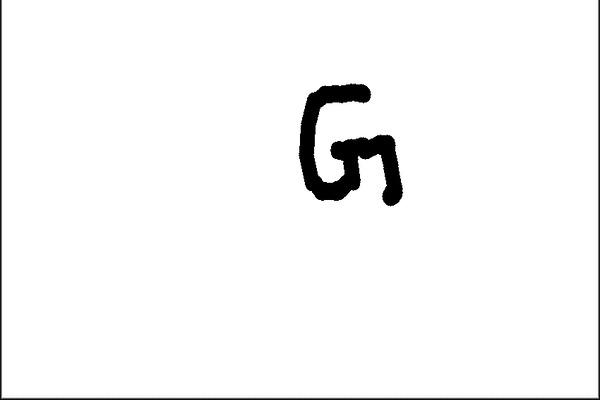G: (295, 78, 405, 210)
